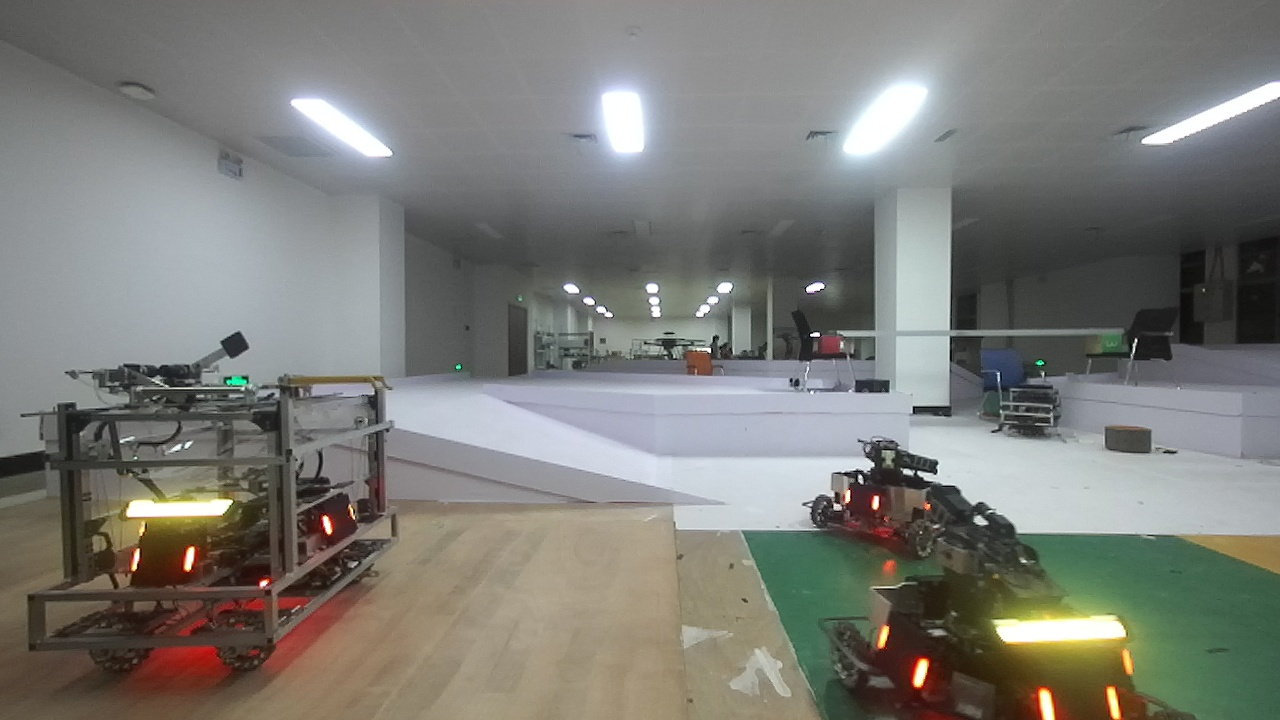car: (11, 345, 430, 689), (776, 506, 1220, 719), (779, 432, 968, 539)
